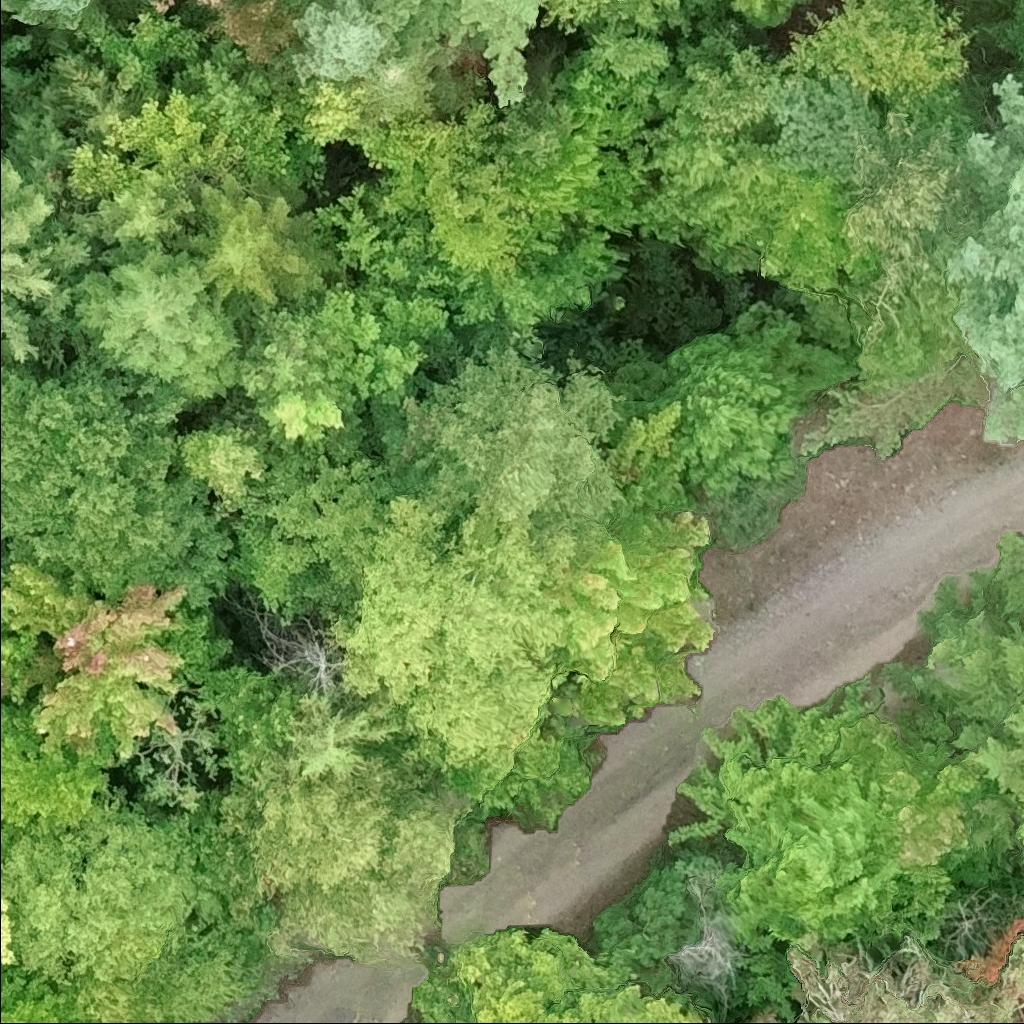crown: (332, 492, 588, 799), (305, 99, 602, 340), (663, 681, 902, 946), (0, 353, 234, 611), (217, 751, 470, 959), (0, 785, 244, 988), (376, 347, 624, 541), (0, 561, 188, 764), (224, 414, 398, 629), (549, 507, 715, 730), (821, 708, 1018, 884), (919, 531, 1023, 858), (938, 67, 1023, 442), (842, 110, 979, 337), (406, 927, 713, 1023), (66, 247, 244, 399), (777, 0, 979, 126), (171, 167, 338, 318), (657, 330, 800, 496), (799, 921, 1023, 1023), (0, 148, 95, 367), (368, 0, 538, 112), (0, 700, 110, 857), (754, 166, 885, 289), (759, 71, 884, 178), (235, 295, 353, 408), (71, 165, 203, 264), (686, 140, 784, 273), (232, 593, 350, 703), (103, 85, 244, 175), (279, 688, 400, 787), (354, 37, 468, 123), (172, 421, 269, 518), (289, 0, 388, 91), (294, 80, 391, 171), (0, 955, 95, 1023), (255, 388, 346, 444), (71, 141, 134, 201), (0, 0, 95, 31), (537, 0, 616, 36), (983, 0, 1023, 68), (0, 615, 41, 680), (727, 0, 806, 30), (0, 890, 19, 982), (0, 558, 15, 588)
